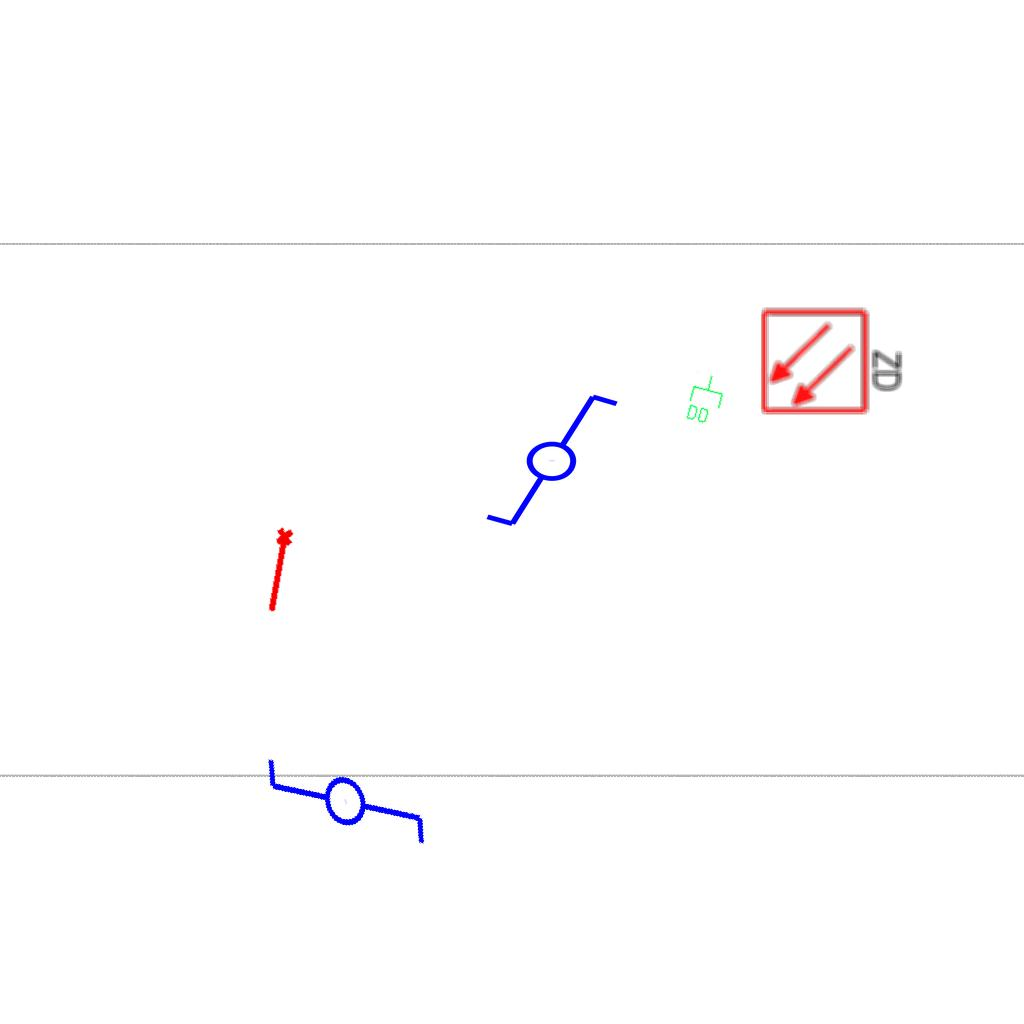ASR_Ansaugoeffnung: (261, 525, 299, 616)
Datenanschluss_zweifach: (682, 369, 729, 429)
Wechselschalter: (249, 694, 440, 892), (465, 387, 622, 531)
ZD_Melder_in_Zwischendecke_mit_Revisionsoeffnung_mind_40_x_40_cm: (759, 303, 908, 417)
